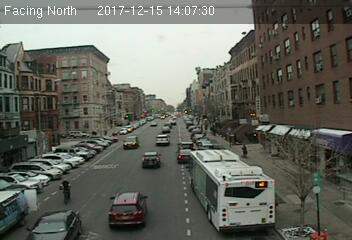bicycle: (58, 180, 72, 205)
bus: (187, 150, 276, 232)
car: (26, 212, 83, 240), (109, 192, 151, 228), (142, 151, 162, 167), (177, 149, 191, 164), (122, 136, 138, 149), (155, 134, 170, 147), (178, 142, 194, 150)
pedestrian: (239, 142, 248, 156)
truck: (1, 187, 29, 234)
